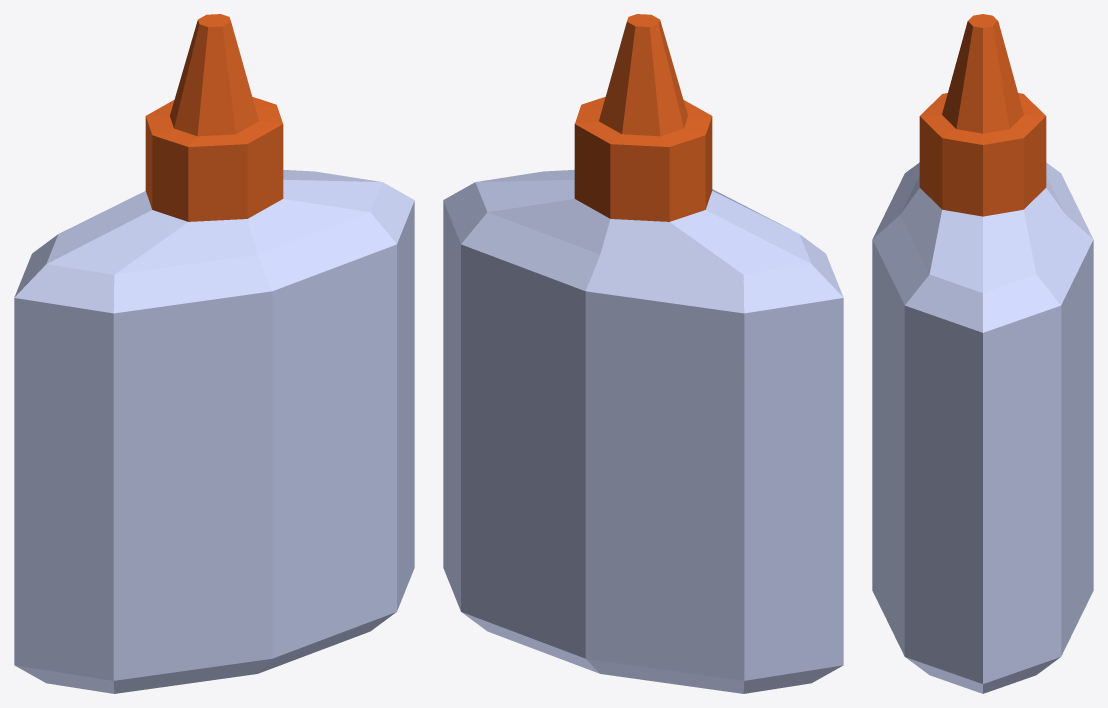
File: GlueBottle.fbx
The picture shows the model from 3 angles, left to right: view 1: azimuth 30°, elevation 25°; view 2: azimuth 150°, elevation 25°; view 3: azimuth 270°, elevation 25°; orthographic projection. The views are drawn at different scales.
Parts seen in each view (by area): view 1: Cylinder; view 2: Cylinder; view 3: Cylinder.
Part boxes in pixels (bbox=[...]): Cylinder: bbox=[14, 14, 414, 693]; Cylinder: bbox=[443, 14, 843, 693]; Cylinder: bbox=[872, 14, 1093, 693].
Bounding box in the file's own units: 60 × 89 × 30.
